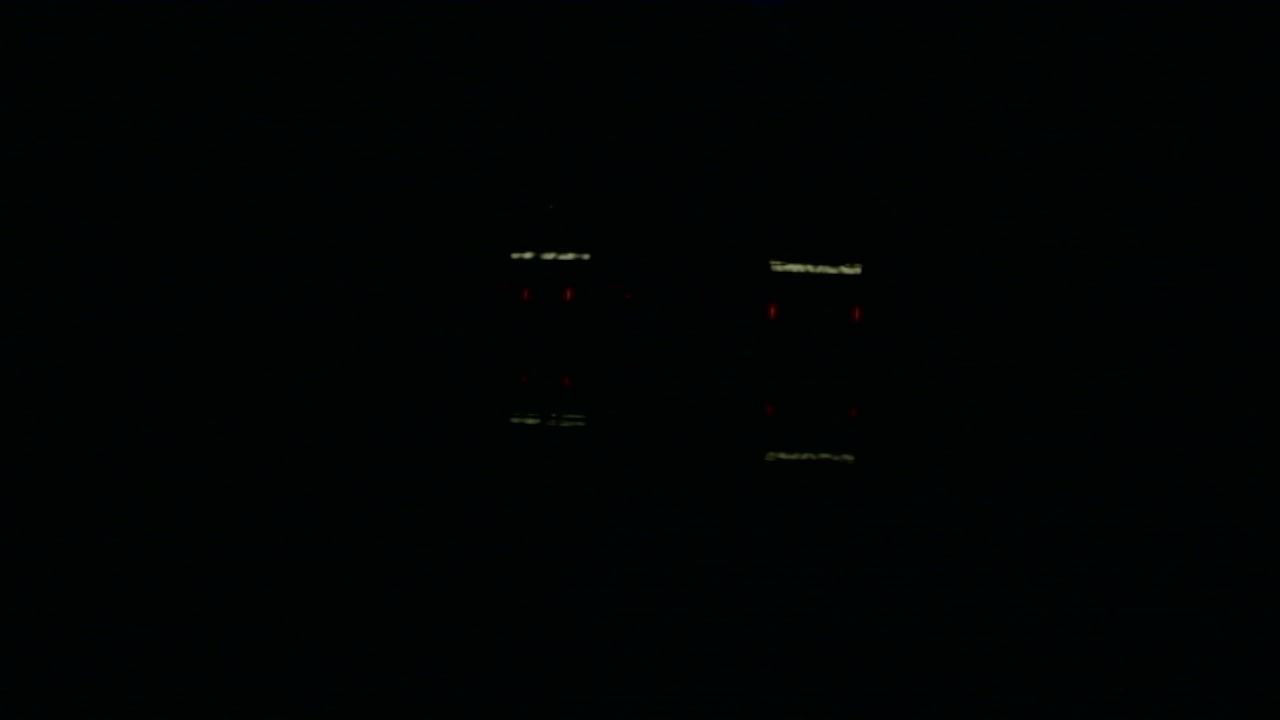lamp: (768, 301, 775, 321), (856, 300, 862, 322), (565, 287, 571, 297), (524, 287, 527, 296)
pair1: (524, 288, 570, 297)
pair2: (769, 301, 863, 322)
